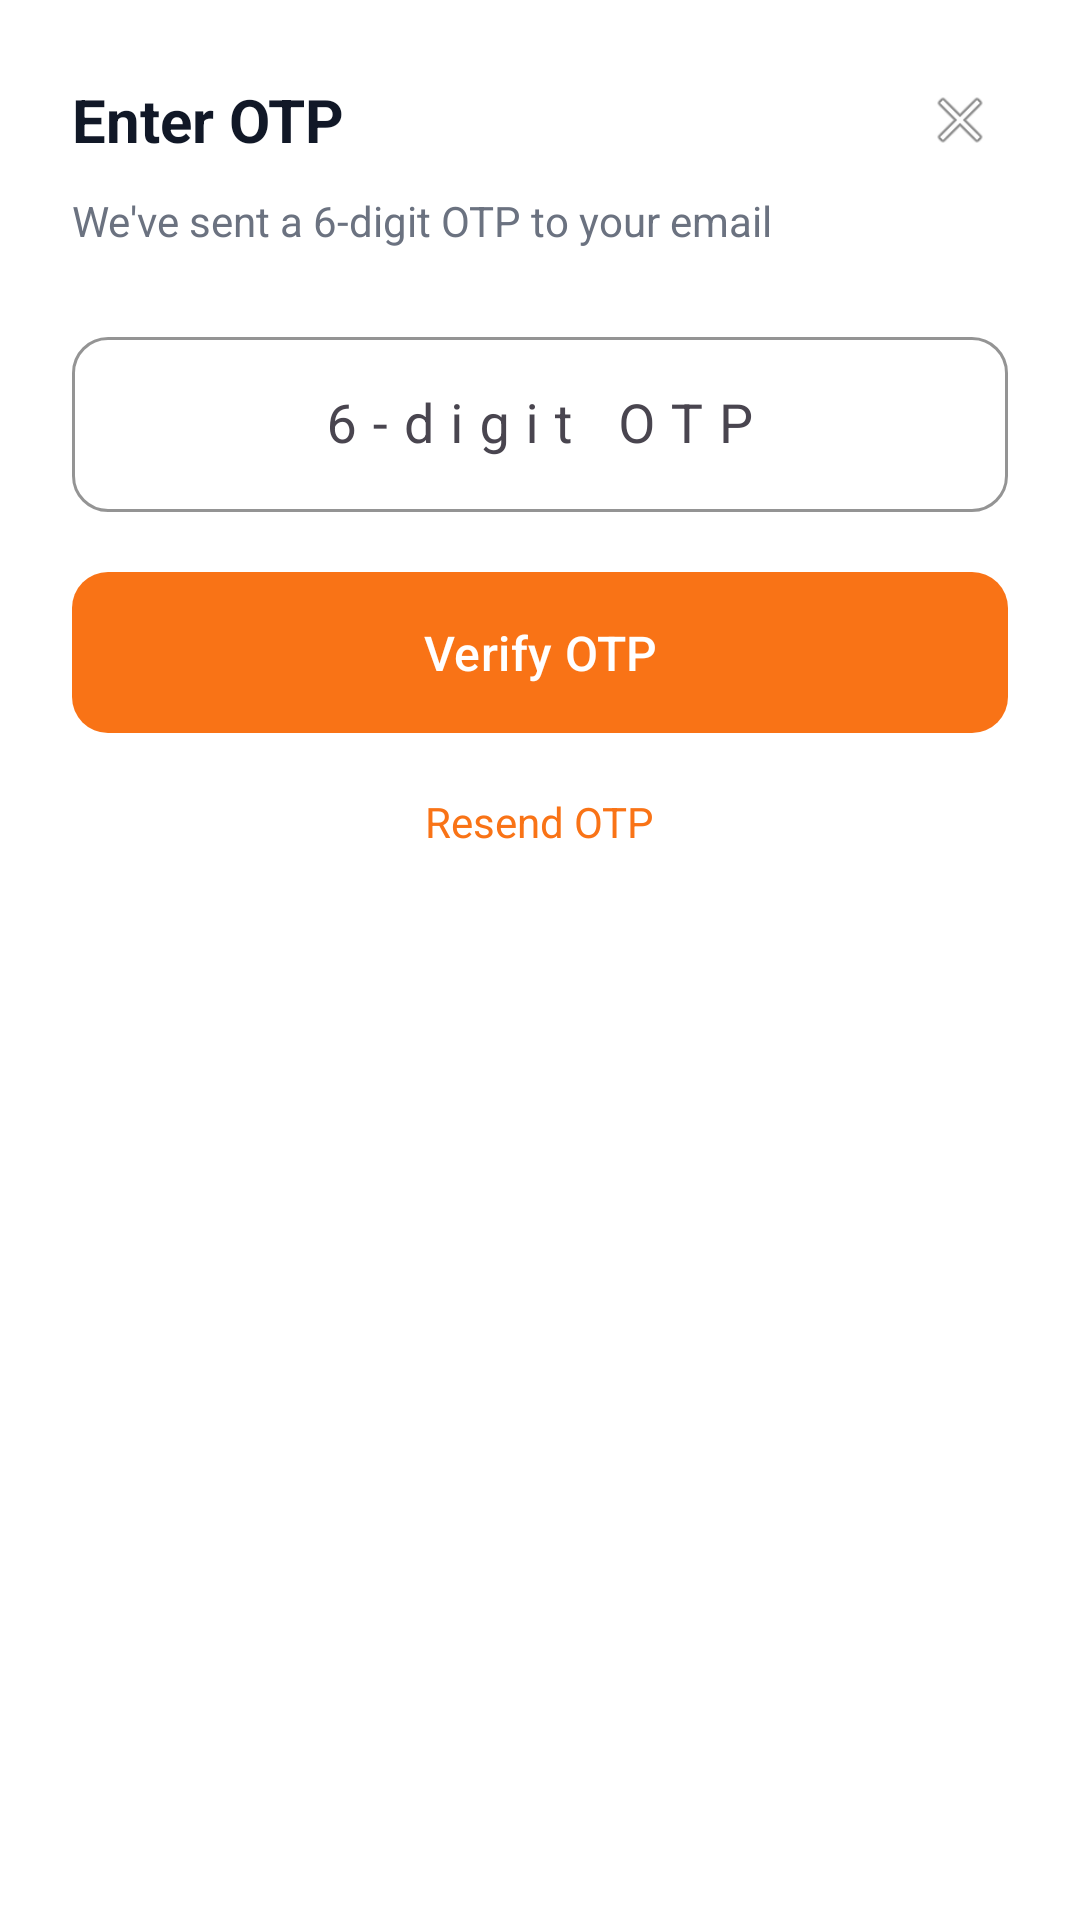

Icon bounding boxes for this 1080x1920 phone screenshot, format (x1, y1, x2, y2):
Close: (937, 97, 983, 143)
